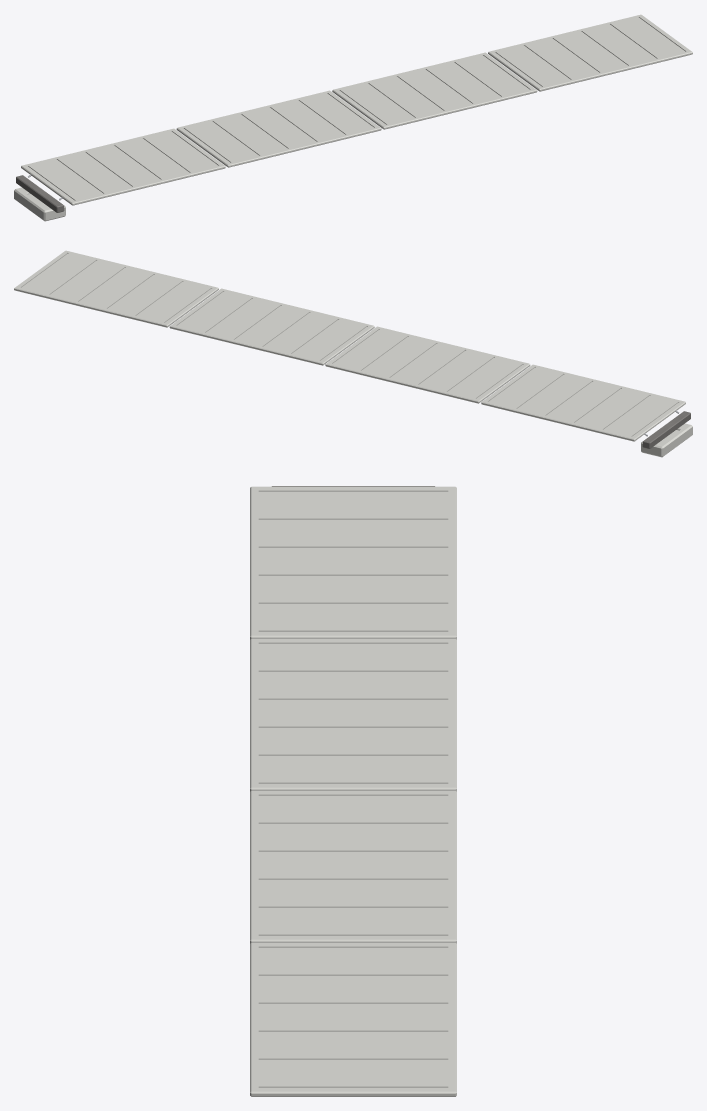
File: ax_power_05_deployable_radiator_l_deployed.glb
3 views of the same model, one above another, from view 1: azimuth 30°, elevation 25°; view 2: azimuth 150°, elevation 25°; view 3: azimuth 270°, elevation 25° (orthographic). The views are drawn at different scales.
Visible parts, largest first — view 1: panel_2, panel_1, panel_3, panel_4, mount_block, hinge_base; view 2: panel_2, panel_1, panel_3, panel_4, mount_block, hinge_base; view 3: panel_4, panel_1, panel_2, panel_3.
Boxes of the visible parts, x1,y1,x2,y2 form: panel_2: (176, 90, 381, 167); panel_1: (21, 128, 225, 205); panel_3: (332, 52, 537, 129); panel_4: (488, 14, 692, 91); mount_block: (14, 187, 65, 221); hinge_base: (16, 175, 64, 212); panel_2: (325, 326, 530, 403); panel_1: (481, 364, 685, 441); panel_3: (169, 288, 374, 365); panel_4: (14, 250, 218, 327); mount_block: (641, 423, 692, 457); hinge_base: (642, 411, 690, 448); panel_4: (250, 942, 456, 1096); panel_1: (250, 486, 456, 639); panel_2: (250, 638, 456, 791); panel_3: (250, 790, 456, 943).
Bounding box in the file's own units: 9.96 × 0.33 × 1.4.
Materials: 3 (2 with a texture image).
